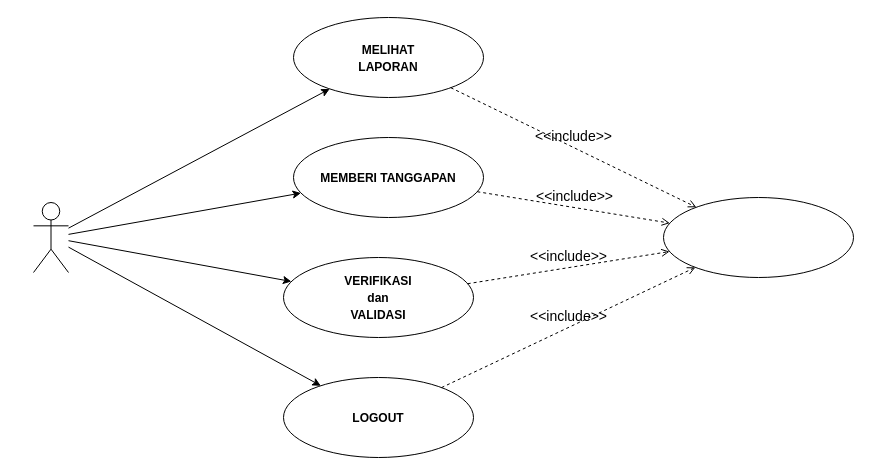
The diagram is 871 pixels wide and 475 high, and some of its shapes have lost their labels. Each missing label, with the centre of its shape:
LOGIN: the point at 758,237
PETUGAS: the point at 50,237
